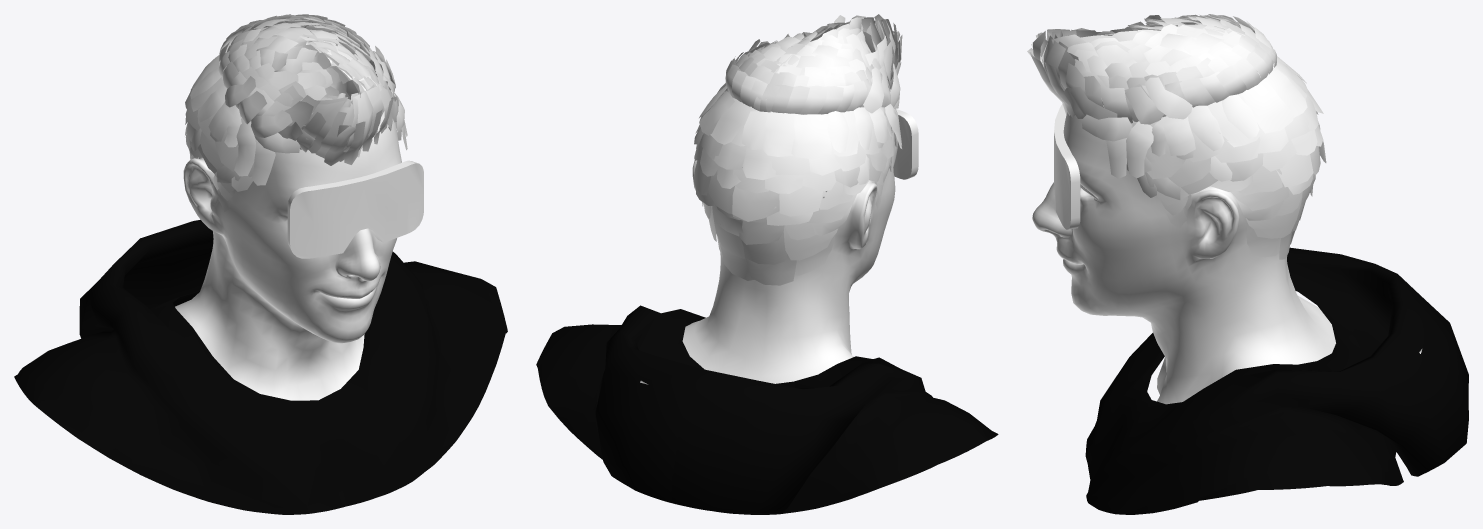
File: TeenManMask.fbx
3 views of the same model, side by side, from view 1: azimuth 30°, elevation 25°; view 2: azimuth 150°, elevation 25°; view 3: azimuth 270°, elevation 25° (orthographic). The views are drawn at different scales.
Visible parts, largest first — view 1: Tops 0; view 2: Tops 0; view 3: Tops 0.
Part boxes in pixels (x1,y1,x2,y2): Tops 0: (14,14,507,514); Tops 0: (536,14,998,514); Tops 0: (1027,14,1468,514).
Bounding box in the file's own units: 46.12 × 41.9 × 36.89.
Materials: 1 (1 with a texture image).
